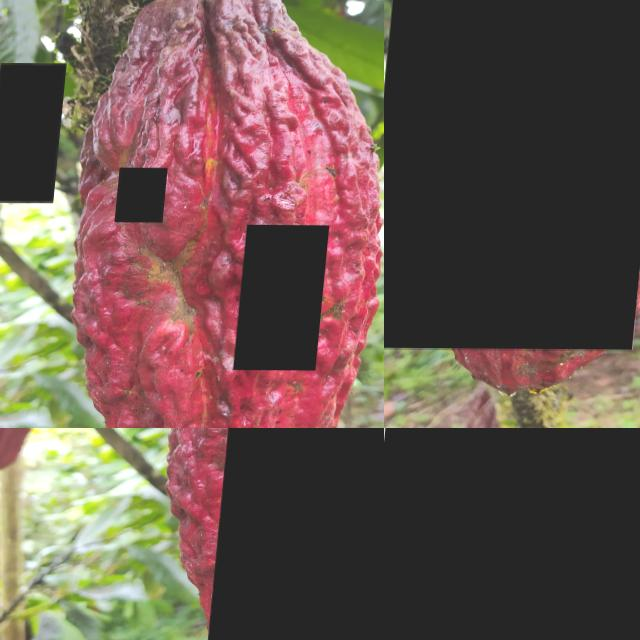Sana: (384, 0, 640, 350), (384, 428, 640, 640), (216, 428, 384, 640), (242, 224, 335, 370), (0, 62, 68, 202), (120, 167, 172, 222)
